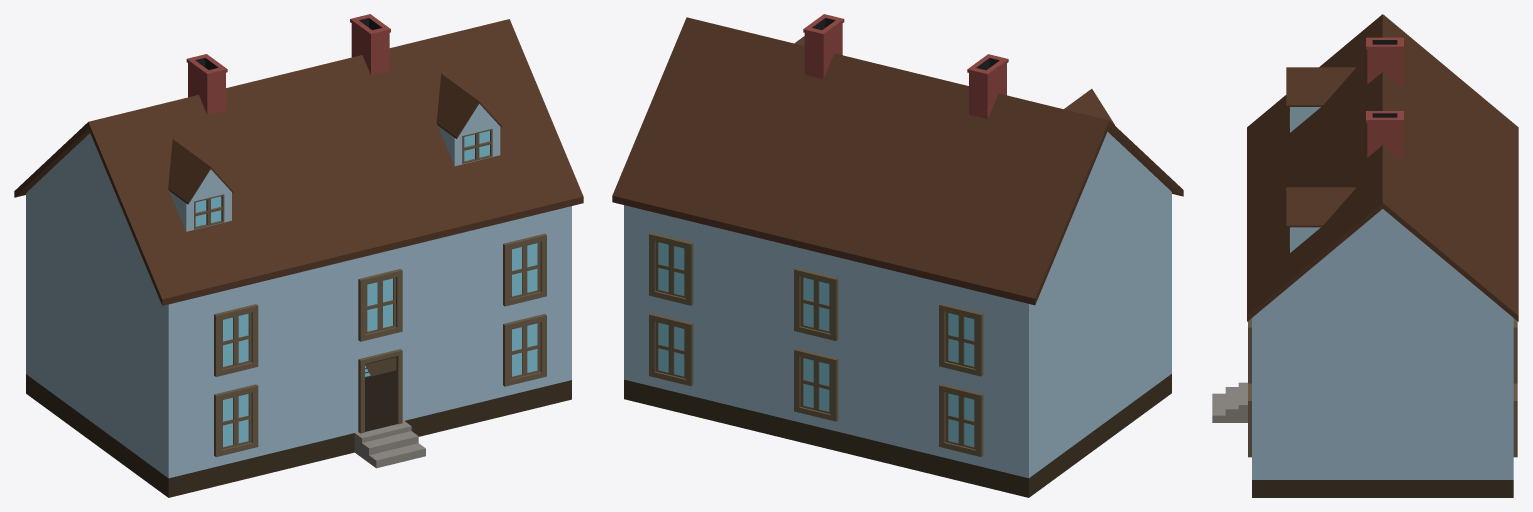
Rendered from SM_Building_04_B.gltf.
3 renders of one model, left to right at view 1: azimuth 30°, elevation 25°; view 2: azimuth 150°, elevation 25°; view 3: azimuth 270°, elevation 25°, orthographic. The views are drawn at different scales.
Visible parts, largest first — view 1: SM_Building_04_B; view 2: SM_Building_04_B; view 3: SM_Building_04_B.
Part boxes in pixels (<box>): SM_Building_04_B: <box>14,14,583,497</box>; SM_Building_04_B: <box>612,14,1183,497</box>; SM_Building_04_B: <box>1212,14,1518,497</box>.
Bounding box in the file's own units: 4.33 × 3.47 × 2.97.
